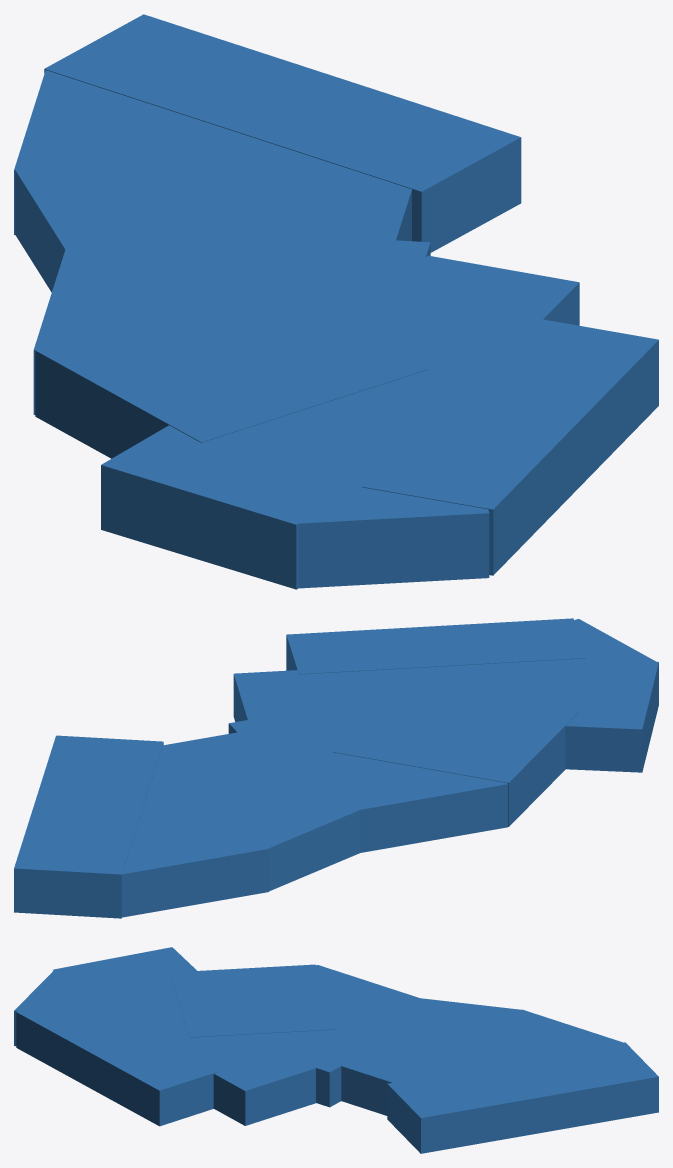
The model's file is p_PuddleH.fbx.
The picture shows the model from 3 angles, top to bottom: view 1: azimuth 30°, elevation 25°; view 2: azimuth 150°, elevation 25°; view 3: azimuth 270°, elevation 25°; orthographic projection. The views are drawn at different scales.
Visible parts, largest first — view 1: Water__4_, Water__6_, Water__9_, Water__10_, Water__5_, Water__7_, Water__8_, Water__12_, Water__11_, Water__13_; view 2: Water__6_, Water__5_, Water__4_, Water__10_, Water__9_, Water__13_, Water__7_, Water__12_, Water__11_, Water__8_; view 3: Water__6_, Water__9_, Water__4_, Water__5_, Water__11_, Water__12_, Water__10_, Water__13_, Water__7_, Water__8_.
Boxes of the visible parts, bbox=[...] form: Water__4_: bbox=[35, 277, 428, 458]; Water__6_: bbox=[44, 14, 521, 252]; Water__9_: bbox=[362, 317, 658, 575]; Water__10_: bbox=[101, 393, 429, 589]; Water__5_: bbox=[33, 222, 430, 414]; Water__7_: bbox=[15, 152, 245, 292]; Water__8_: bbox=[279, 458, 489, 588]; Water__12_: bbox=[158, 124, 411, 241]; Water__11_: bbox=[354, 255, 579, 419]; Water__13_: bbox=[14, 70, 231, 234]; Water__6_: bbox=[14, 735, 163, 918]; Water__5_: bbox=[228, 695, 507, 852]; Water__4_: bbox=[333, 681, 578, 826]; Water__10_: bbox=[460, 658, 658, 772]; Water__9_: bbox=[286, 618, 585, 674]; Water__13_: bbox=[121, 804, 268, 917]; Water__7_: bbox=[187, 765, 366, 891]; Water__12_: bbox=[141, 729, 320, 824]; Water__11_: bbox=[233, 665, 477, 721]; Water__8_: bbox=[537, 619, 656, 686]; Water__6_: bbox=[387, 1042, 658, 1153]; Water__9_: bbox=[16, 992, 219, 1126]; Water__4_: bbox=[169, 964, 335, 1037]; Water__5_: bbox=[219, 965, 447, 1107]; Water__11_: bbox=[134, 1009, 315, 1125]; Water__12_: bbox=[331, 1031, 528, 1115]; Water__10_: bbox=[53, 947, 196, 1023]; Water__13_: bbox=[455, 1009, 622, 1061]; Water__7_: bbox=[387, 995, 521, 1047]; Water__8_: bbox=[14, 970, 124, 1046].
Bounding box in the file's own units: 525 × 51 × 834.
